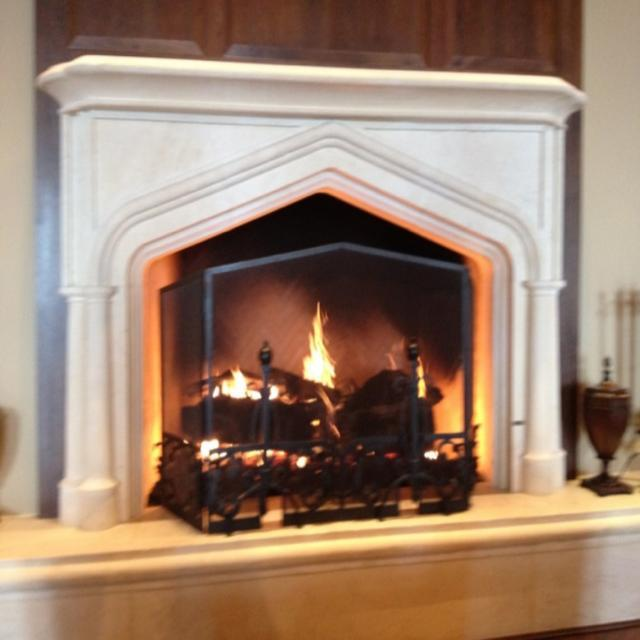Fire: (205, 289, 342, 469)
